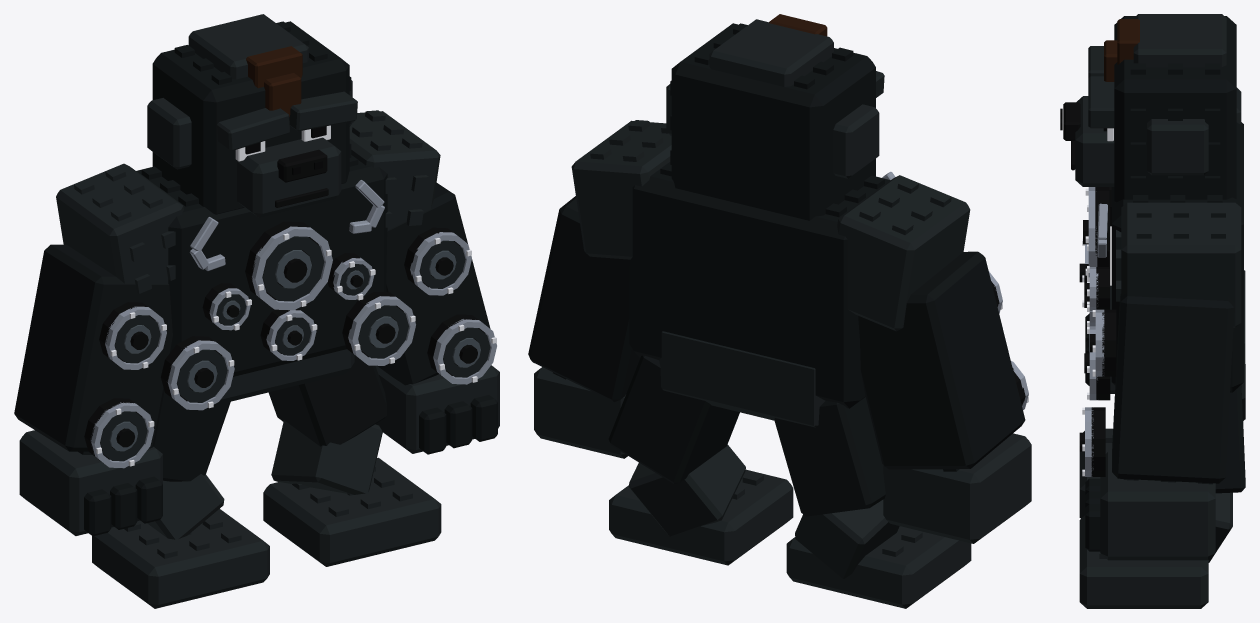
File: GorilloSubwoofero.glb
The picture shows the model from 3 angles, left to right: view 1: azimuth 30°, elevation 25°; view 2: azimuth 150°, elevation 25°; view 3: azimuth 270°, elevation 25°; orthographic projection. The views are drawn at different scales.
Visible parts, largest first — view 1: GorilloSubwoofero; view 2: GorilloSubwoofero; view 3: GorilloSubwoofero.
Part boxes in pixels (left/top/right/bottom): GorilloSubwoofero: left=14, top=14, right=499, bottom=608; GorilloSubwoofero: left=528, top=14, right=1031, bottom=608; GorilloSubwoofero: left=1060, top=14, right=1245, bottom=608.
Size of the model in its own units: 4.46 by 5 by 1.65.
1 material, 1 textured.
